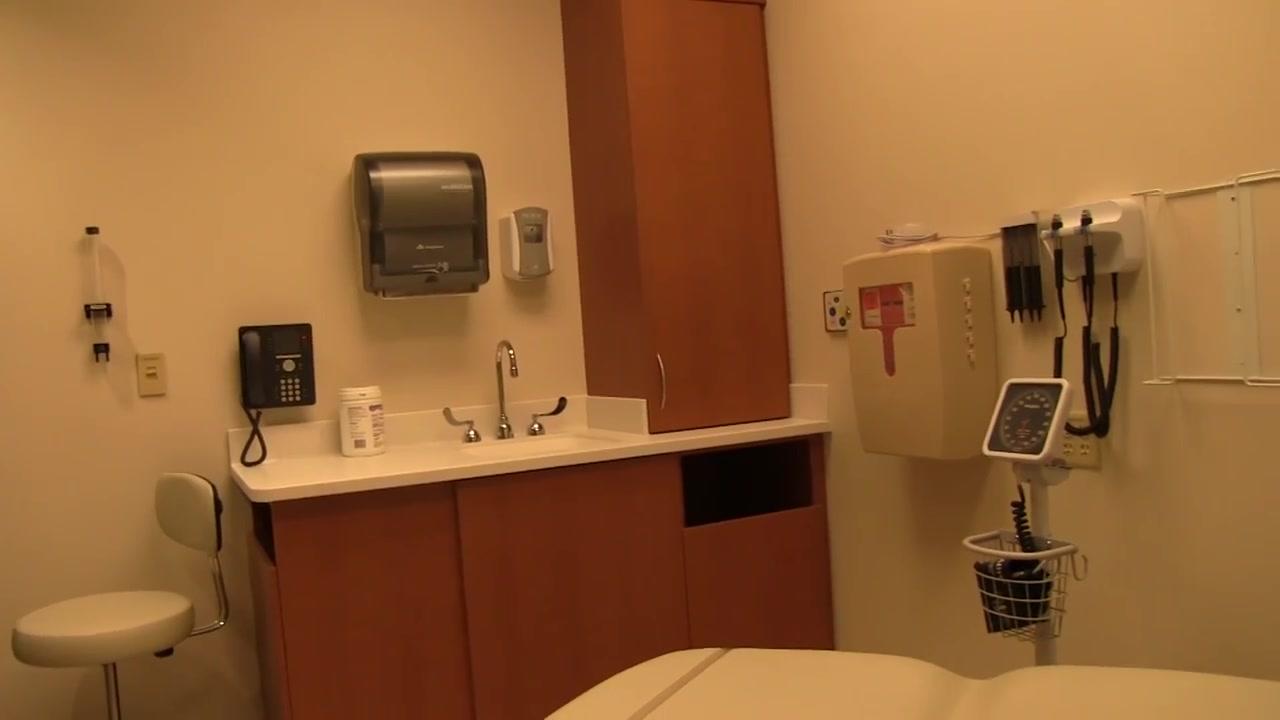cabinet: (556, 1, 799, 428)
chair: (12, 469, 231, 720)
counter: (233, 421, 831, 720)
countertop: (226, 428, 646, 502)
dispenser: (349, 150, 495, 299), (500, 205, 556, 284)
exam_table: (536, 647, 1280, 720)
faucet: (442, 338, 568, 444)
handle: (655, 351, 668, 409)
medical_waste_container: (840, 240, 993, 464)
sink: (458, 427, 614, 459)
telephone: (236, 321, 319, 411)
